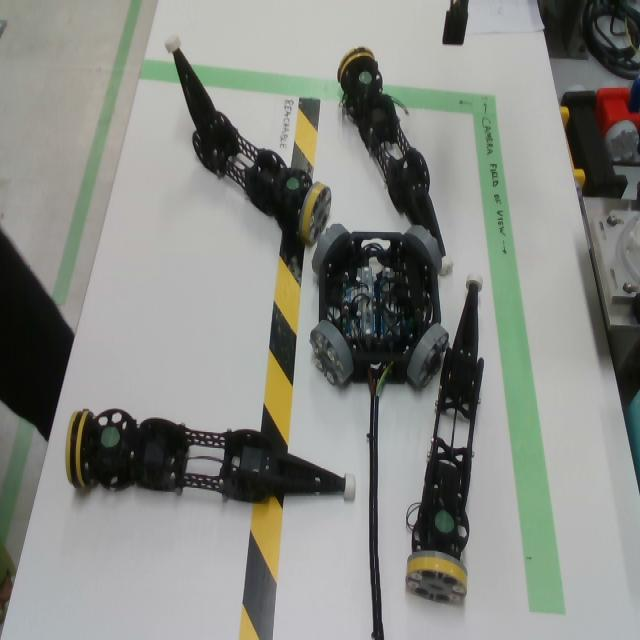body: (319, 232, 442, 385)
body_connector: (309, 320, 354, 388), (407, 324, 450, 391), (312, 223, 350, 276), (404, 225, 442, 273)
leg: (165, 35, 332, 247), (65, 408, 358, 504), (336, 45, 454, 276), (406, 271, 484, 597)
leg_connector: (405, 551, 467, 603), (65, 409, 94, 489), (298, 181, 331, 245), (337, 47, 379, 89)
leg_marker: (435, 509, 454, 535), (100, 427, 120, 448), (287, 177, 299, 191), (359, 72, 372, 84)
